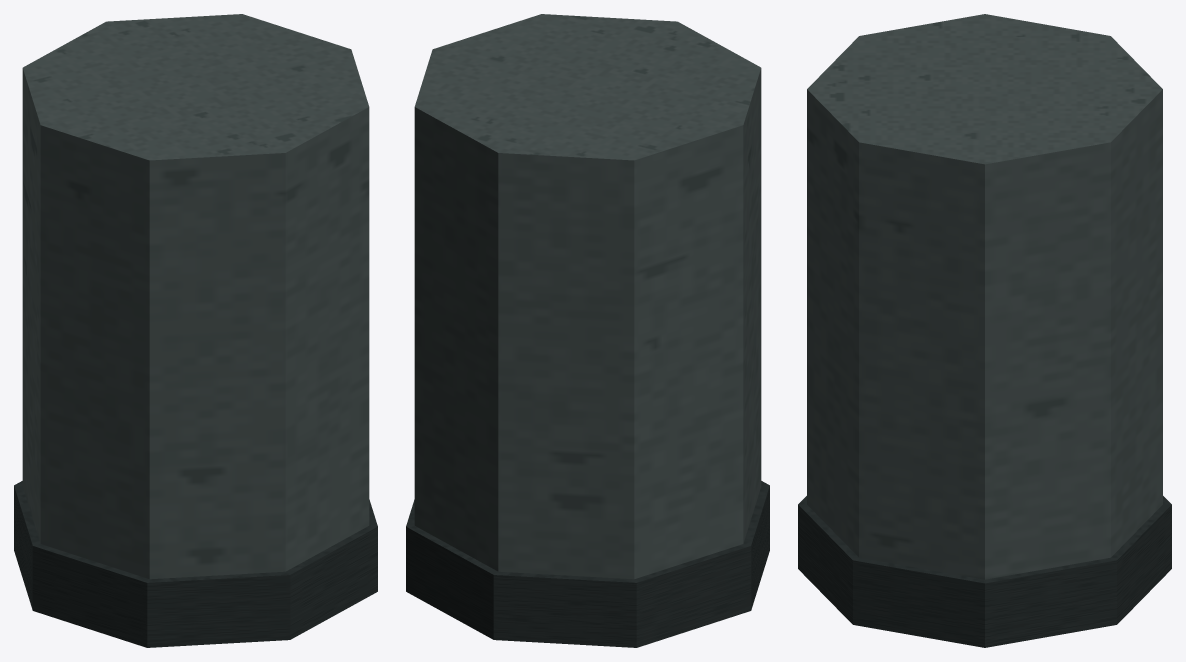
Rendered from RimJoint.fbx.
The picture shows the model from 3 angles, left to right: view 1: azimuth 30°, elevation 25°; view 2: azimuth 150°, elevation 25°; view 3: azimuth 270°, elevation 25°; orthographic projection.
Visible parts, largest first — view 1: RimJoint; view 2: RimJoint; view 3: RimJoint.
Part boxes in pixels (left/top/right/bottom): RimJoint: left=14, top=14, right=377, bottom=647; RimJoint: left=406, top=14, right=769, bottom=647; RimJoint: left=798, top=14, right=1171, bottom=647.
Size of the model in its own units: 84 by 119 by 84.
